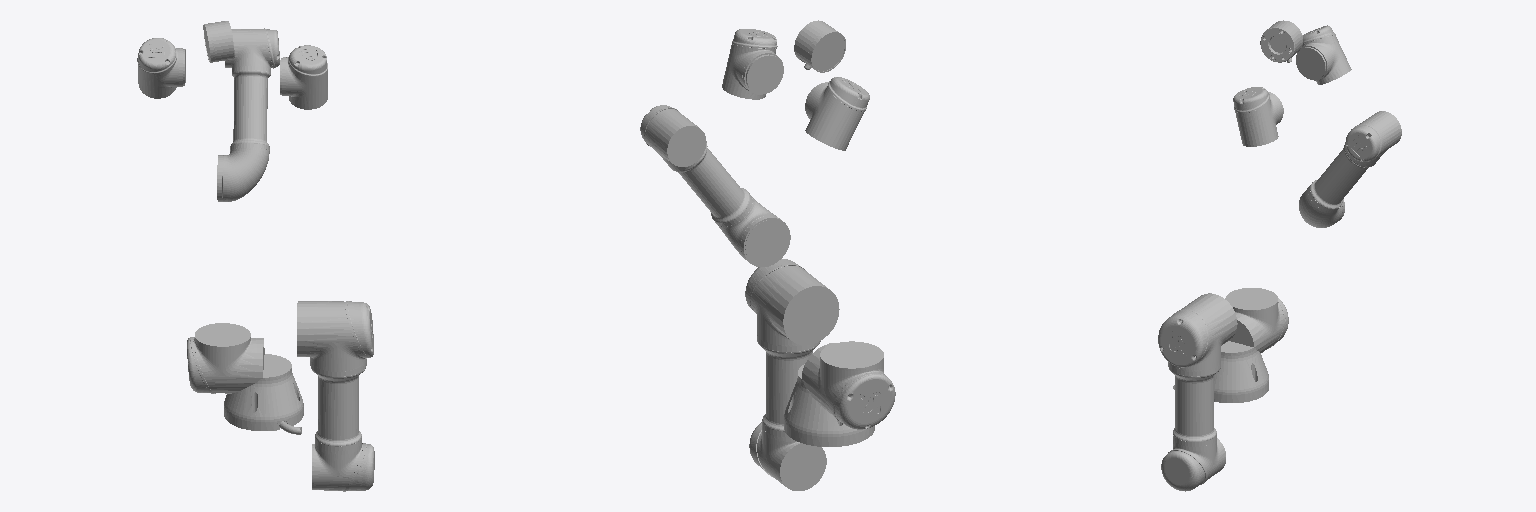
robot.urdf — ur33:
<?xml version="1.0" encoding="utf-8"?>
<!-- This URDF was automatically created by SolidWorks to URDF Exporter! Originally created by [author] ([email redacted]) 
     Commit Version: 1.6.0-4-g7f85cfe  Build Version: 1.6.7995.38578
     For more information, please see http://wiki.ros.org/sw_urdf_exporter -->
<robot
  name="ur33">
  <link
    name="base_link">
    <inertial>
      <origin
        xyz="3.93116168057697E-05 -0.000808491080125989 0.046220310995705"
        rpy="0 0 0" />
      <mass
        value="0.615785283013905" />
      <inertia
        ixx="0.000761300764311582"
        ixy="2.98963200654777E-07"
        ixz="3.53676883539924E-07"
        iyy="0.000774576499049897"
        iyz="-3.46585976118833E-06"
        izz="0.00100294058166069" />
    </inertial>
    <visual>
      <origin
        xyz="0 0 0"
        rpy="0 0 0" />
      <geometry>
        <mesh
          filename="package://ur33/meshes/base_link.STL" />
      </geometry>
      <material
        name="">
        <color
          rgba="0.752941176470588 0.752941176470588 0.752941176470588 1" />
      </material>
    </visual>
    <collision>
      <origin
        xyz="0 0 0"
        rpy="0 0 0" />
      <geometry>
        <mesh
          filename="package://ur33/meshes/base_link.STL" />
      </geometry>
    </collision>
  </link>
  <link
    name="link1">
    <inertial>
      <origin
        xyz="-6.40625775914324E-06 0.0073384897831299 -0.054270421113684"
        rpy="0 0 0" />
      <mass
        value="0.755651972571794" />
      <inertia
        ixx="0.00106903797369432"
        ixy="9.89315736655096E-08"
        ixz="9.48353620031588E-08"
        iyy="0.000990118676481056"
        iyz="0.000131067701862536"
        izz="0.000906485139777163" />
    </inertial>
    <visual>
      <origin
        xyz="0 0 0"
        rpy="0 0 0" />
      <geometry>
        <mesh
          filename="package://ur33/meshes/link1.STL" />
      </geometry>
      <material
        name="">
        <color
          rgba="0.752941176470588 0.752941176470588 0.752941176470588 1" />
      </material>
    </visual>
    <collision>
      <origin
        xyz="0 0 0"
        rpy="0 0 0" />
      <geometry>
        <mesh
          filename="package://ur33/meshes/link1.STL" />
      </geometry>
    </collision>
  </link>
  <joint
    name="joint1"
    type="continuous">
    <origin
      xyz="0 0 0.08605"
      rpy="-3.14159265358979 0 -2.12131588599297" />
    <parent
      link="base_link" />
    <child
      link="link1" />
    <axis
      xyz="0 0 1" />
    <limit
      lower="-3.14"
      upper="3.14"
      effort="100"
      velocity="2" />
  </joint>
  <link
    name="link2">
    <inertial>
      <origin
        xyz="0.0614610231996296 -0.0860061627704665 0.116589773897471"
        rpy="0 0 0" />
      <mass
        value="1.80164817391607" />
      <inertia
        ixx="0.0023186116671055"
        ixy="0.000463522536300758"
        ixz="-4.72188440614434E-05"
        iyy="0.0020010695774144"
        iyz="6.59248325584966E-05"
        izz="0.0025172679877967" />
    </inertial>
    <visual>
      <origin
        xyz="0 0 0"
        rpy="0 0 0" />
      <geometry>
        <mesh
          filename="package://ur33/meshes/link2.STL" />
      </geometry>
      <material
        name="">
        <color
          rgba="0.752941176470588 0.752941176470588 0.752941176470588 1" />
      </material>
    </visual>
    <collision>
      <origin
        xyz="0 0 0"
        rpy="0 0 0" />
      <geometry>
        <mesh
          filename="package://ur33/meshes/link2.STL" />
      </geometry>
    </collision>
  </link>
  <joint
    name="joint2"
    type="continuous">
    <origin
      xyz="0 0 -0.065849973272205"
      rpy="1.5707963267949 0 -3.14159265358979" />
    <parent
      link="link1" />
    <child
      link="link2" />
    <axis
      xyz="0 0 1" />
    <limit
      lower="-3.14"
      upper="3.14"
      effort="100"
      velocity="2" />
  </joint>
  <link
    name="link3">
    <inertial>
      <origin
        xyz="-0.0848721525553792 0.0718523582365145 -0.031783197723821"
        rpy="0 0 0" />
      <mass
        value="0.962318952715275" />
      <inertia
        ixx="0.000763928216708484"
        ixy="0.000261390958396011"
        ixz="3.51942093732435E-05"
        iyy="0.000851454207568593"
        iyz="-2.97876397293878E-05"
        izz="0.00101486278864245" />
    </inertial>
    <visual>
      <origin
        xyz="0 0 0"
        rpy="0 0 0" />
      <geometry>
        <mesh
          filename="package://ur33/meshes/link3.STL" />
      </geometry>
      <material
        name="">
        <color
          rgba="0.752941176470588 0.752941176470588 0.752941176470588 1" />
      </material>
    </visual>
    <collision>
      <origin
        xyz="0 0 0"
        rpy="0 0 0" />
      <geometry>
        <mesh
          filename="package://ur33/meshes/link3.STL" />
      </geometry>
    </collision>
  </link>
  <joint
    name="joint3"
    type="continuous">
    <origin
      xyz="0.141667881004013 -0.198231011680394 0"
      rpy="-3.14159265358979 0 0.620497634557815" />
    <parent
      link="link2" />
    <child
      link="link3" />
    <axis
      xyz="0 0 1" />
    <limit
      lower="-3.14"
      upper="3.14"
      effort="100"
      velocity="2" />
  </joint>
  <link
    name="link4">
    <inertial>
      <origin
        xyz="0.000131209886218175 0.000500927510777682 0.0835319348419828"
        rpy="0 0 0" />
      <mass
        value="0.325313468021276" />
      <inertia
        ixx="0.000224305930821341"
        ixy="-6.9675812747166E-06"
        ixz="4.88606687580084E-06"
        iyy="0.000201017702194615"
        iyz="1.76869754759816E-05"
        izz="0.000194599789749191" />
    </inertial>
    <visual>
      <origin
        xyz="0 0 0"
        rpy="0 0 0" />
      <geometry>
        <mesh
          filename="package://ur33/meshes/link4.STL" />
      </geometry>
      <material
        name="">
        <color
          rgba="0.752941176470588 0.752941176470588 0.752941176470588 1" />
      </material>
    </visual>
    <collision>
      <origin
        xyz="0 0 0"
        rpy="0 0 0" />
      <geometry>
        <mesh
          filename="package://ur33/meshes/link4.STL" />
      </geometry>
    </collision>
  </link>
  <joint
    name="joint4"
    type="continuous">
    <origin
      xyz="-0.162568668943455 0.137624227072808 -0.0205823596352336"
      rpy="3.14159265358979 0 0.86830241372629" />
    <parent
      link="link3" />
    <child
      link="link4" />
    <axis
      xyz="0 0 1" />
    <limit
      lower="-3.14"
      upper="3.14"
      effort="100"
      velocity="2" />
  </joint>
  <link
    name="link5">
    <inertial>
      <origin
        xyz="0.000112522115221614 -0.00050509048913952 0.0562627732396945"
        rpy="0 0 0" />
      <mass
        value="0.325304141773511" />
      <inertia
        ixx="0.000225095056327699"
        ixy="5.44701371473204E-06"
        ixz="3.76400573183504E-06"
        iyy="0.00020024451842975"
        iyz="-1.79591798179098E-05"
        izz="0.000194601314166384" />
    </inertial>
    <visual>
      <origin
        xyz="0 0 0"
        rpy="0 0 0" />
      <geometry>
        <mesh
          filename="package://ur33/meshes/link5.STL" />
      </geometry>
      <material
        name="">
        <color
          rgba="0.752941176470588 0.752941176470588 0.752941176470588 1" />
      </material>
    </visual>
    <collision>
      <origin
        xyz="0 0 0"
        rpy="0 0 0" />
      <geometry>
        <mesh
          filename="package://ur33/meshes/link5.STL" />
      </geometry>
    </collision>
  </link>
  <joint
    name="joint5"
    type="continuous">
    <origin
      xyz="-0.00565178892594551 -0.0204462178326499 0.0894566136371169"
      rpy="1.5707963267949 0 -0.269687956226347" />
    <parent
      link="link4" />
    <child
      link="link5" />
    <axis
      xyz="0 0 1" />
    <limit
      lower="-3.14"
      upper="3.14"
      effort="100"
      velocity="2" />
  </joint>
  <link
    name="link6">
    <inertial>
      <origin
        xyz="3.75217963930474E-05 -9.62587027188988E-05 0.0496689201398142"
        rpy="0 0 0" />
      <mass
        value="0.115355209052266" />
      <inertia
        ixx="4.24968269717471E-05"
        ixy="-7.196650468842E-08"
        ixz="-3.74817081762618E-08"
        iyy="4.26533940599608E-05"
        iyz="9.61768604574973E-08"
        izz="5.90666201317259E-05" />
    </inertial>
    <visual>
      <origin
        xyz="0 0 0"
        rpy="0 0 0" />
      <geometry>
        <mesh
          filename="package://ur33/meshes/link6.STL" />
      </geometry>
      <material
        name="">
        <color
          rgba="0.752941176470588 0.752941176470588 0.752941176470588 1" />
      </material>
    </visual>
    <collision>
      <origin
        xyz="0 0 0"
        rpy="0 0 0" />
      <geometry>
        <mesh
          filename="package://ur33/meshes/link6.STL" />
      </geometry>
    </collision>
  </link>
  <joint
    name="joint6"
    type="continuous">
    <origin
      xyz="-0.00252288825058838 0.0120425525055395 0.0621870195022448"
      rpy="-1.5707963267949 0 0.206511156802196" />
    <parent
      link="link5" />
    <child
      link="link6" />
    <axis
      xyz="0 0 1" />
    <limit
      lower="-3.14"
      upper="3.14"
      effort="100"
      velocity="2" />
  </joint>
</robot>

--- Render facts (derived) ---
Views: 3 orthographic renders of the robot side by side, from view 1: azimuth 30°, elevation 25°; view 2: azimuth 150°, elevation 25°; view 3: azimuth 270°, elevation 25°.
Model ur33 with 7 links and 6 joints (6 continuous), rooted at base_link, posed every joint at zero.
Links seen in each view (by area): view 1: link2, link3, link1, base_link, link4, link5, link6; view 2: link2, link3, link1, link4, link5, base_link, link6; view 3: link2, link3, link1, base_link, link4, link5, link6.
Boxes of the visible links, x1,y1,x2,y2 form: link2: (297, 301, 374, 491); link3: (217, 28, 279, 201); link1: (187, 323, 264, 393); base_link: (224, 354, 303, 434); link4: (280, 45, 327, 109); link5: (137, 38, 185, 98); link6: (203, 21, 234, 62); link2: (745, 259, 839, 490); link3: (640, 105, 790, 266); link1: (802, 341, 895, 429); link4: (722, 29, 783, 99); link5: (805, 77, 869, 150); base_link: (784, 364, 874, 446); link6: (794, 20, 845, 72); link2: (1158, 293, 1237, 491); link3: (1299, 111, 1401, 227); link1: (1225, 288, 1288, 352); base_link: (1173, 341, 1268, 402); link4: (1233, 87, 1283, 146); link5: (1296, 25, 1351, 84); link6: (1260, 20, 1302, 62).
Bounding box of the posed robot: 0.3124 × 0.4142 × 0.7967 m (x, y, z).
7 mesh visuals loaded from 7 distinct referenced files (7 binary STL).